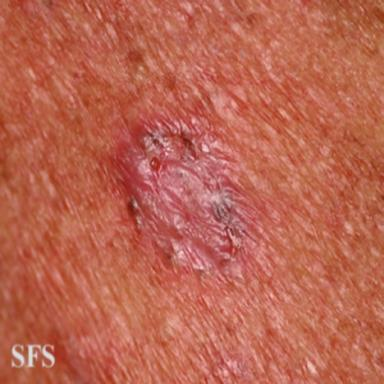basal-cell-carcinoma: (116, 113, 257, 279)
